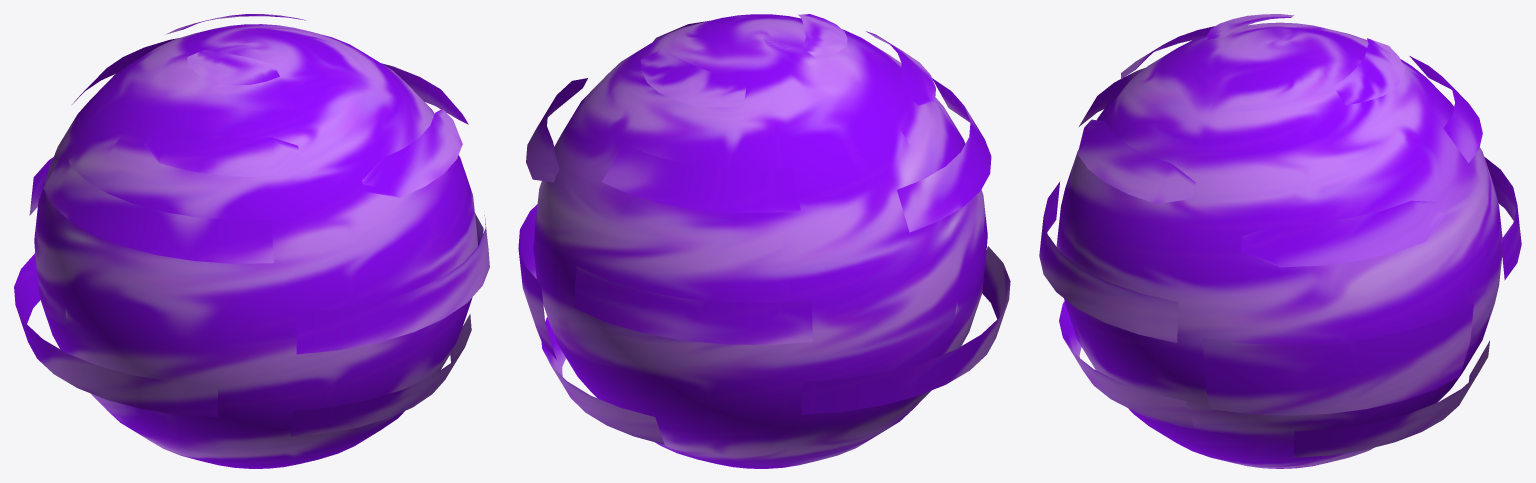
Rendered from tama_effect.fbx.
3 renders of one model, left to right at view 1: azimuth 30°, elevation 25°; view 2: azimuth 150°, elevation 25°; view 3: azimuth 270°, elevation 25°, orthographic. The views are drawn at different scales.
Visible parts, largest first — view 1: 球; view 2: 球; view 3: 球.
Boxes of the visible parts, x1=… form: 球: x1=14, y1=14, x2=489, y2=468; 球: x1=518, y1=14, x2=1010, y2=468; 球: x1=1039, y1=14, x2=1521, y2=468.
Bounding box in the file's own units: 2.17 × 2.03 × 2.16.
